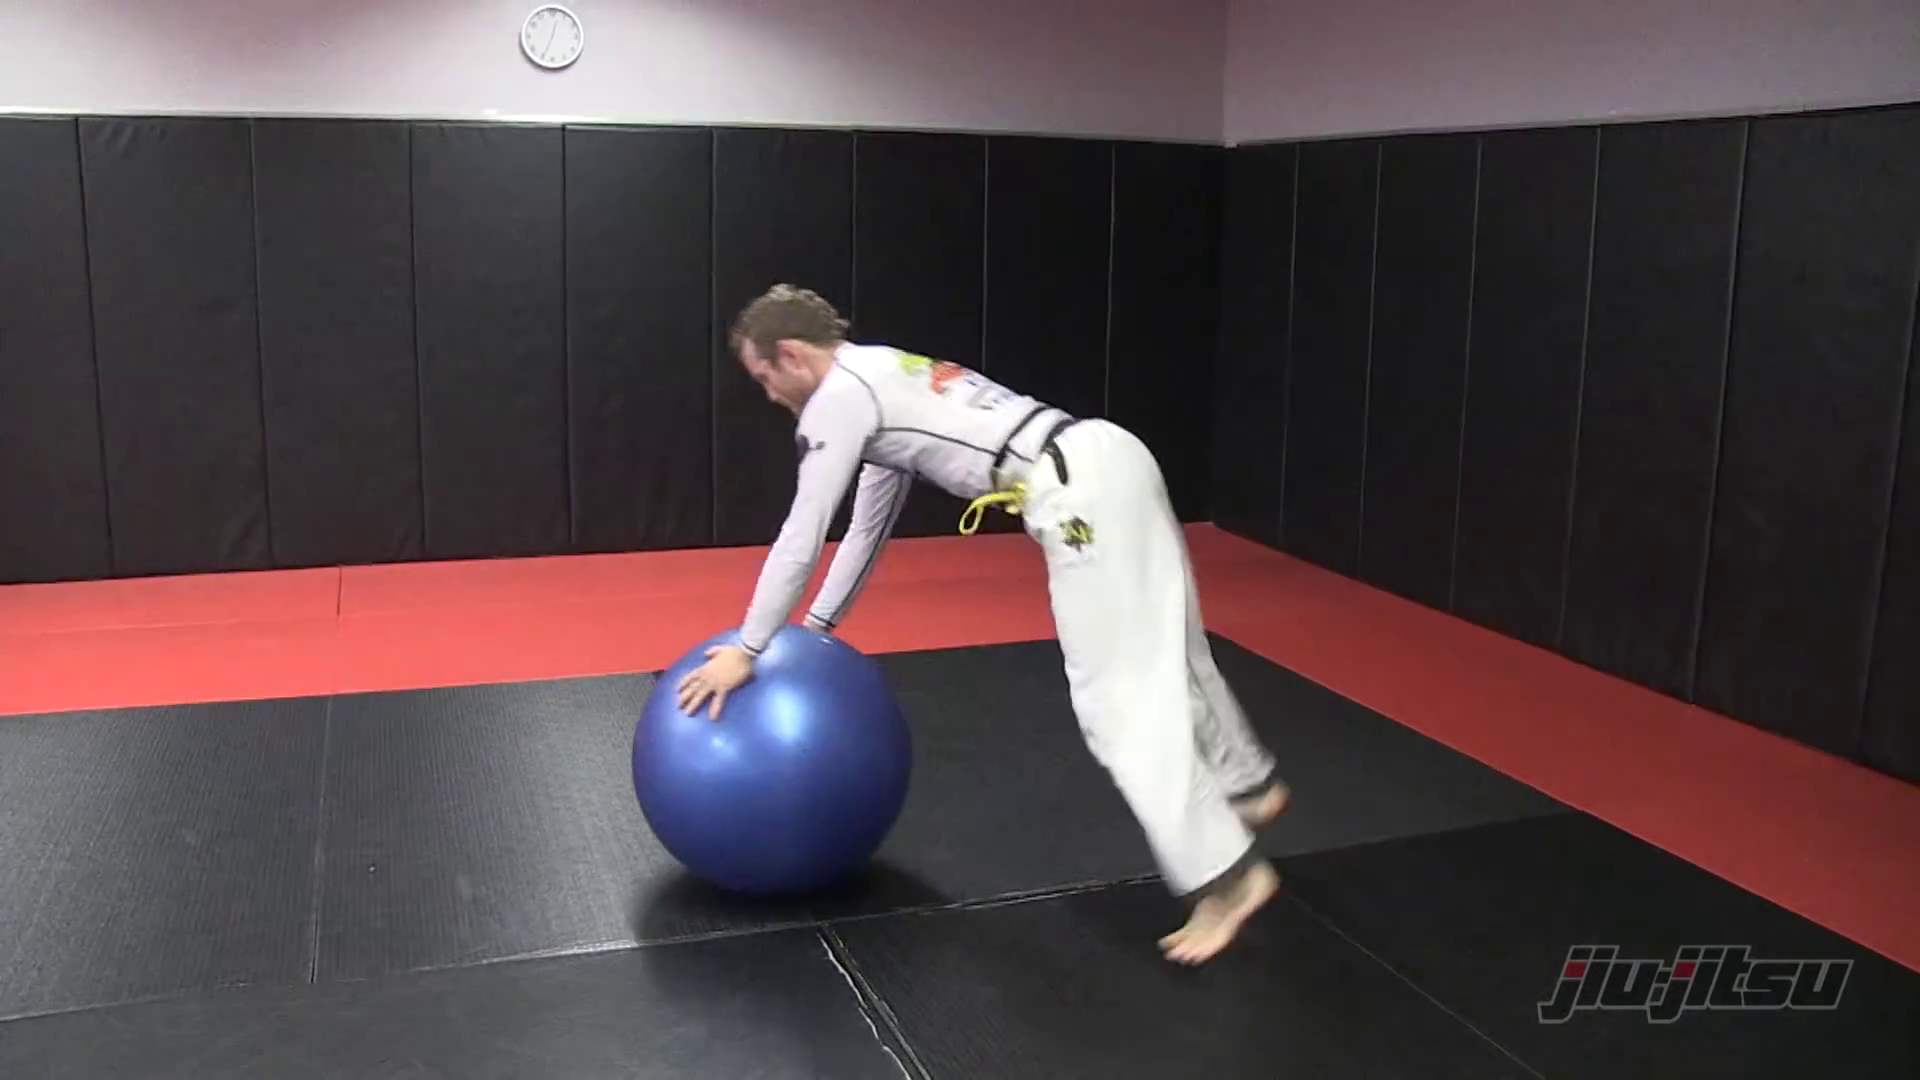yogaball: (616, 616, 930, 919)
